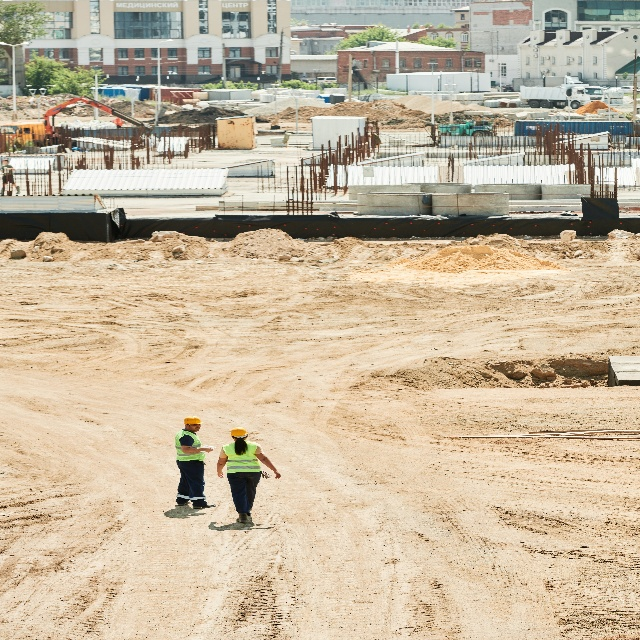Guantes: (261, 470, 272, 481)
Sin_guantes: (274, 470, 281, 480), (205, 446, 213, 453), (218, 470, 224, 477)
